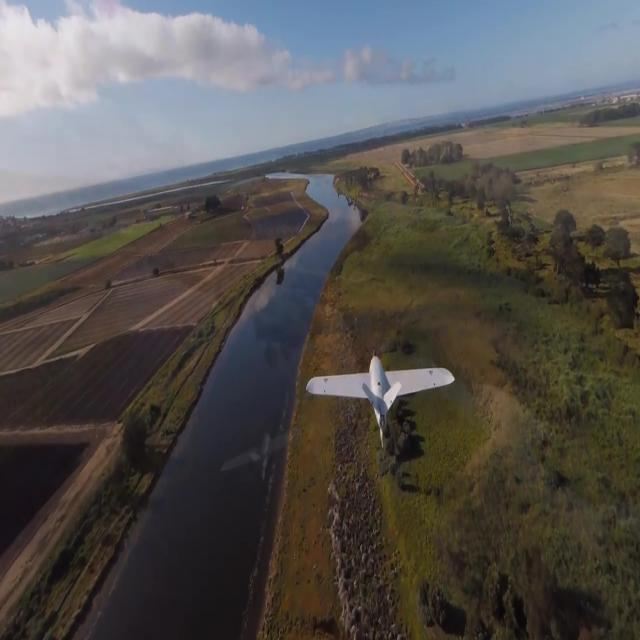iha: (305, 378, 455, 419)
